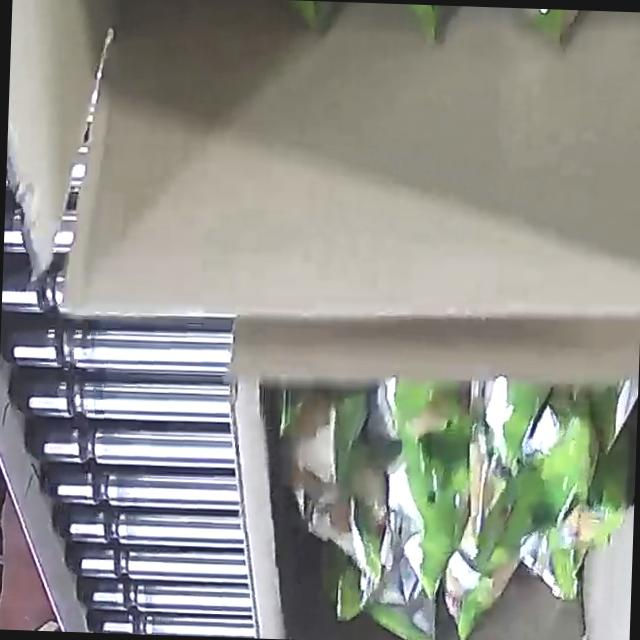yogurt: (270, 365, 638, 640), (130, 0, 640, 121)
